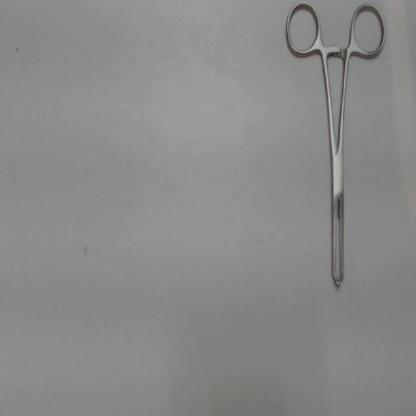Allis Tissue Forceps: (278, 0, 392, 297)
